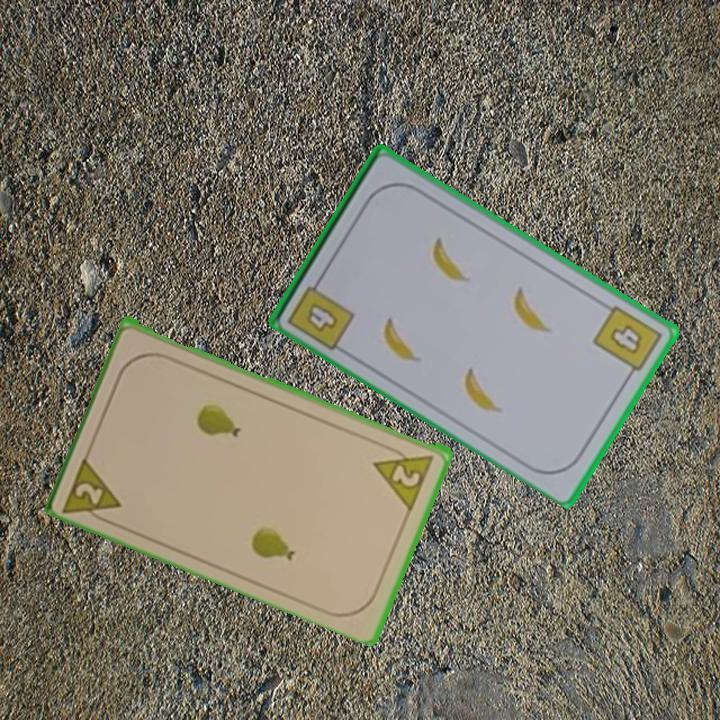2p: (60, 450, 126, 528), (370, 442, 438, 511)
4b: (589, 301, 665, 382), (284, 271, 358, 353)
